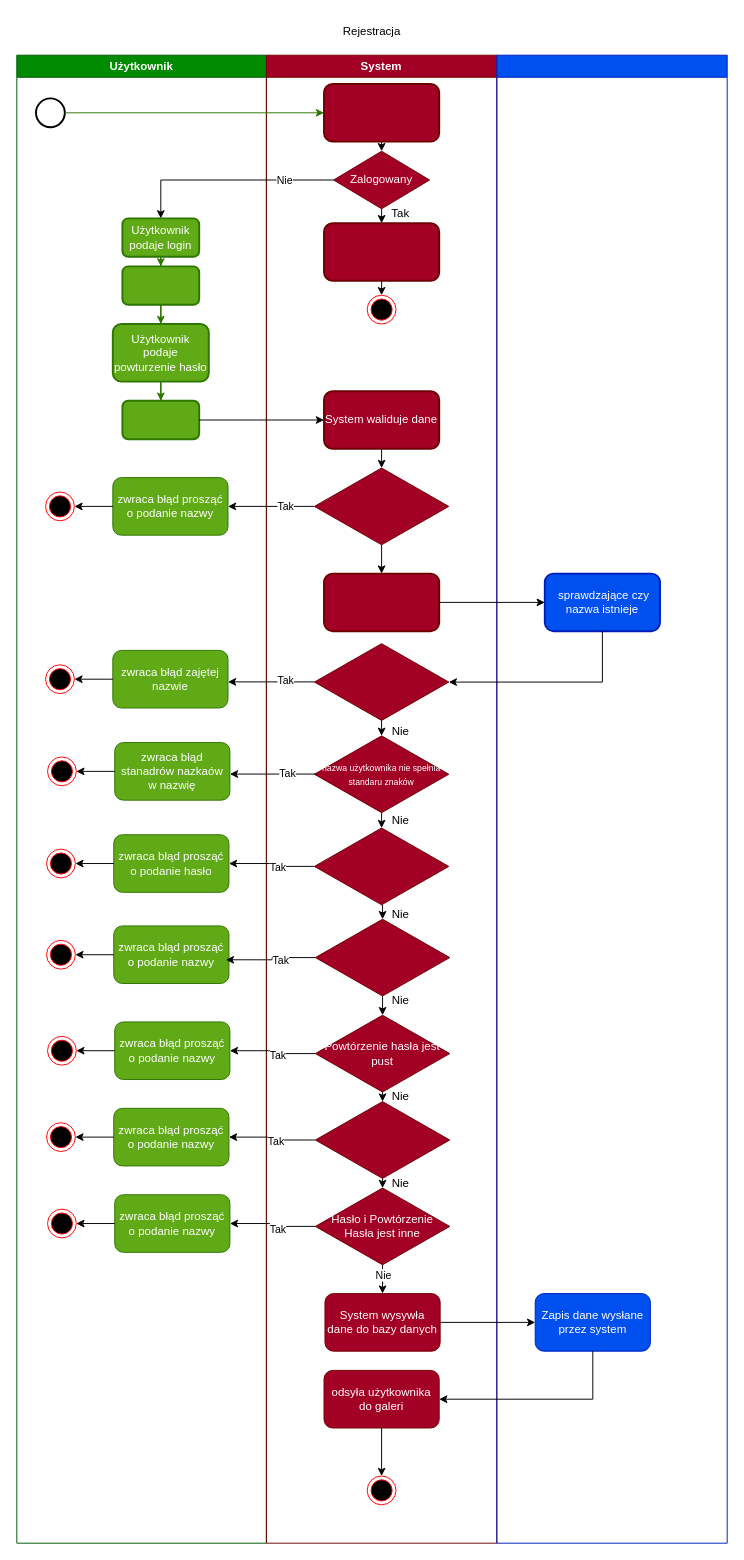
Image size: 744x1560. Some labels were removed from this diagram. Here are the shapes that lost their labels. From the top down, the box of each, then its label:
(323, 83, 440, 142): Użytkownik nie jest zalogowany
(323, 222, 440, 281): Odszyła do galeria.php
(121, 265, 200, 305): Użytkownik podaje hasło
(121, 399, 200, 440): Użytkownik wysyła dane z formularza
(313, 467, 449, 545): nazwa użytkownika jest pusta
(323, 572, 440, 632): Nazwa użytkownika istnieje
(313, 643, 449, 720): Nazwa użytkownika jest zajęta
(496, 54, 727, 1543): Baza danych
(313, 827, 449, 905): hasło jest pusta
(314, 918, 450, 996): hasło nie spełnia standaru długości
(314, 1101, 450, 1178): Powtórzenie hasła nie spełnia standaru długości
